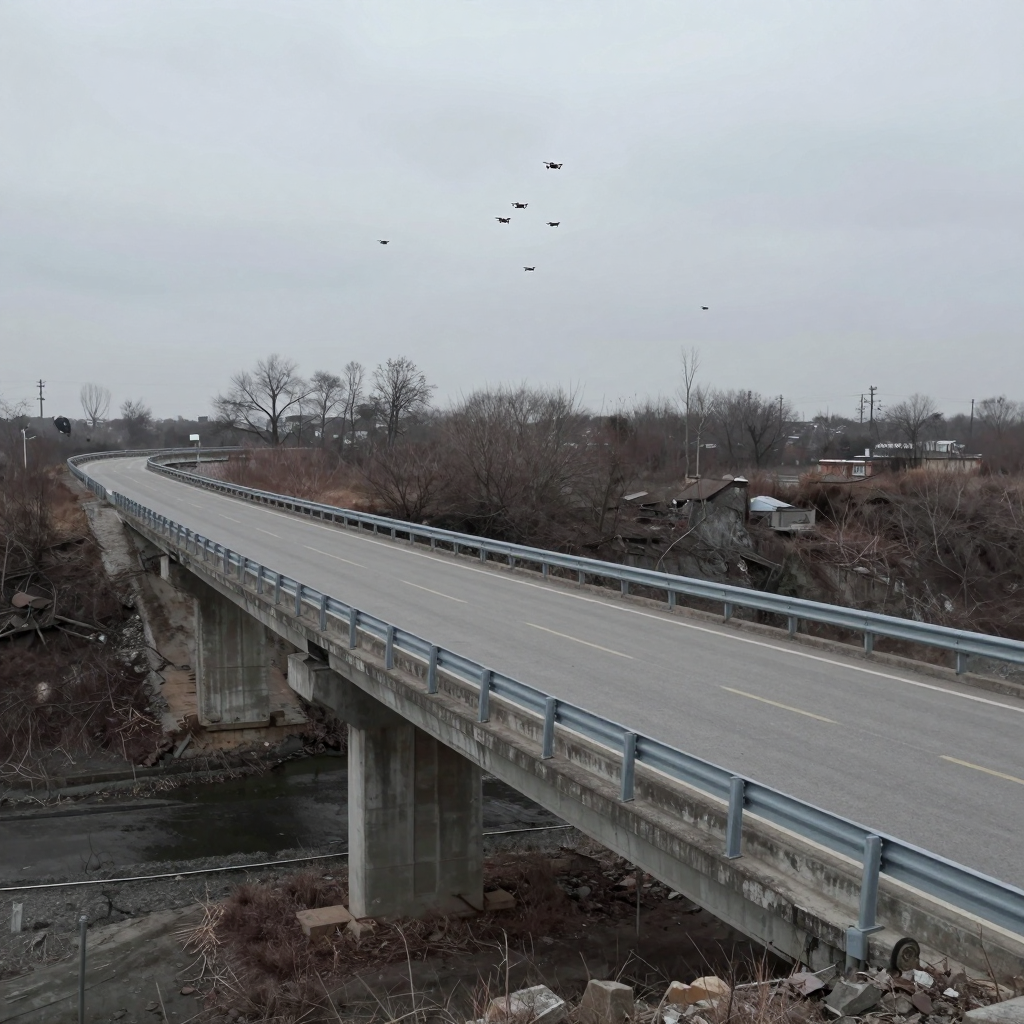drone: (543, 161, 563, 170), (495, 217, 511, 224), (546, 221, 560, 228), (512, 203, 528, 209), (522, 266, 536, 272), (376, 240, 390, 245), (701, 306, 709, 311)
